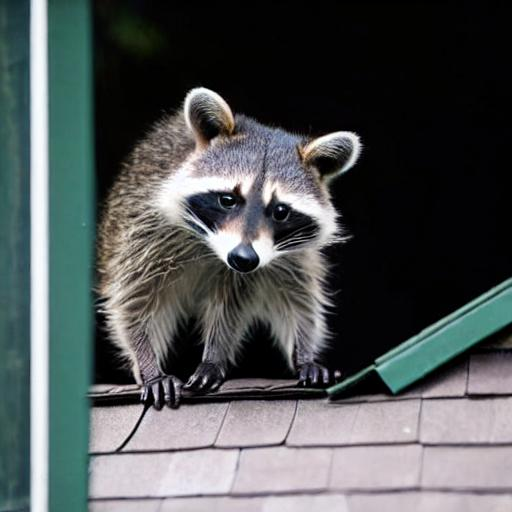raccoon: (88, 78, 367, 399)
